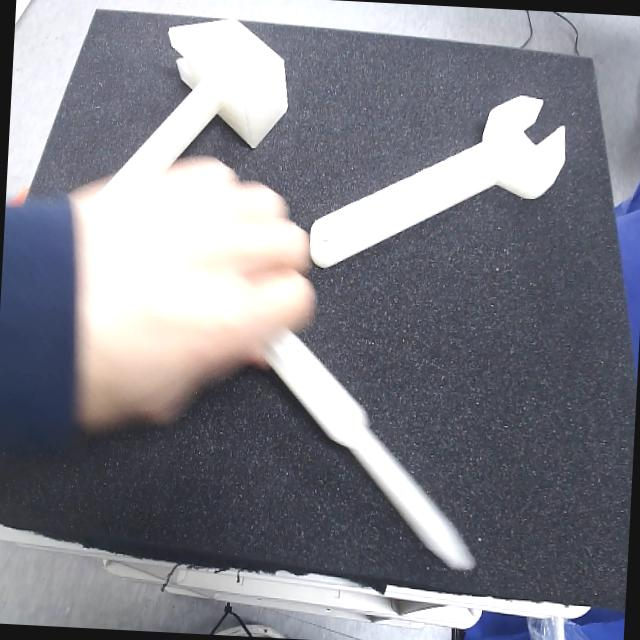Spanner: (308, 97, 568, 271)
